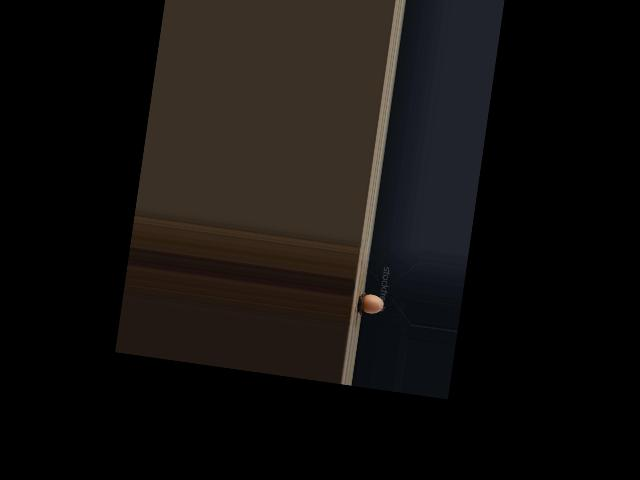egg: (361, 294, 384, 315)
